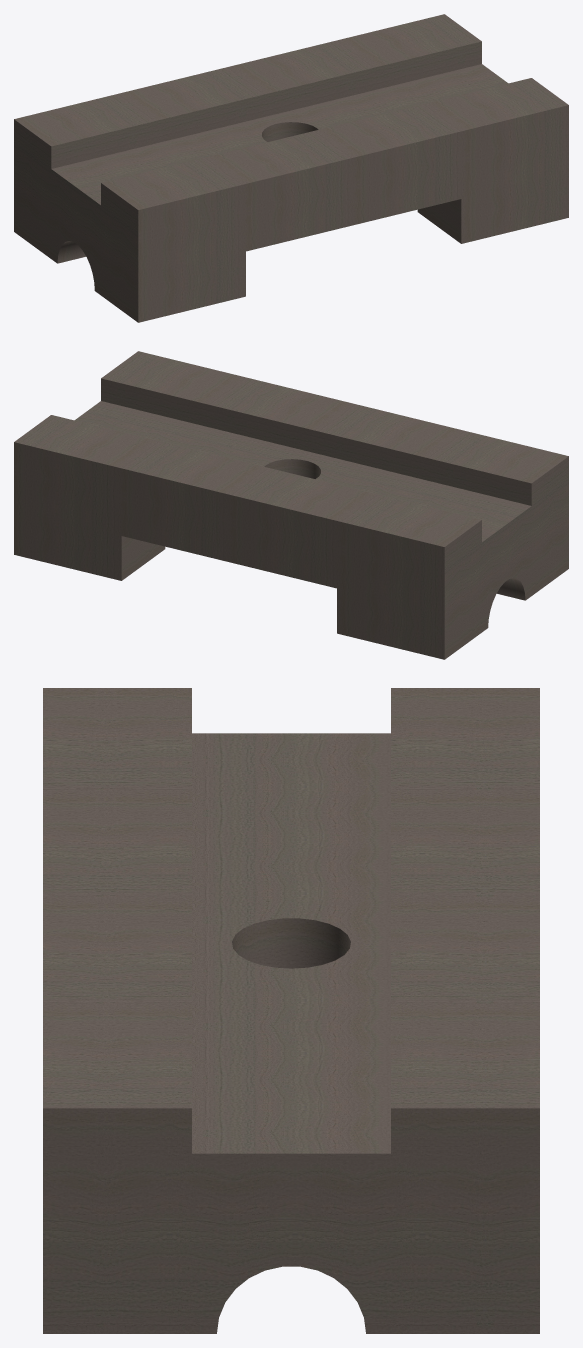
File: asset.glb
The picture shows the model from 3 angles, top to bottom: view 1: azimuth 30°, elevation 25°; view 2: azimuth 150°, elevation 25°; view 3: azimuth 270°, elevation 25°; orthographic projection. The views are drawn at different scales.
Visible parts, largest first — view 1: Solid1; view 2: Solid1; view 3: Solid1.
Part boxes in pixels (<box>): Solid1: <box>14,14,568,322</box>; Solid1: <box>14,351,568,659</box>; Solid1: <box>43,688,539,1333</box>.
Size of the model in its own units: 0.1 by 0.025 by 0.05.
1 material, 1 textured.
